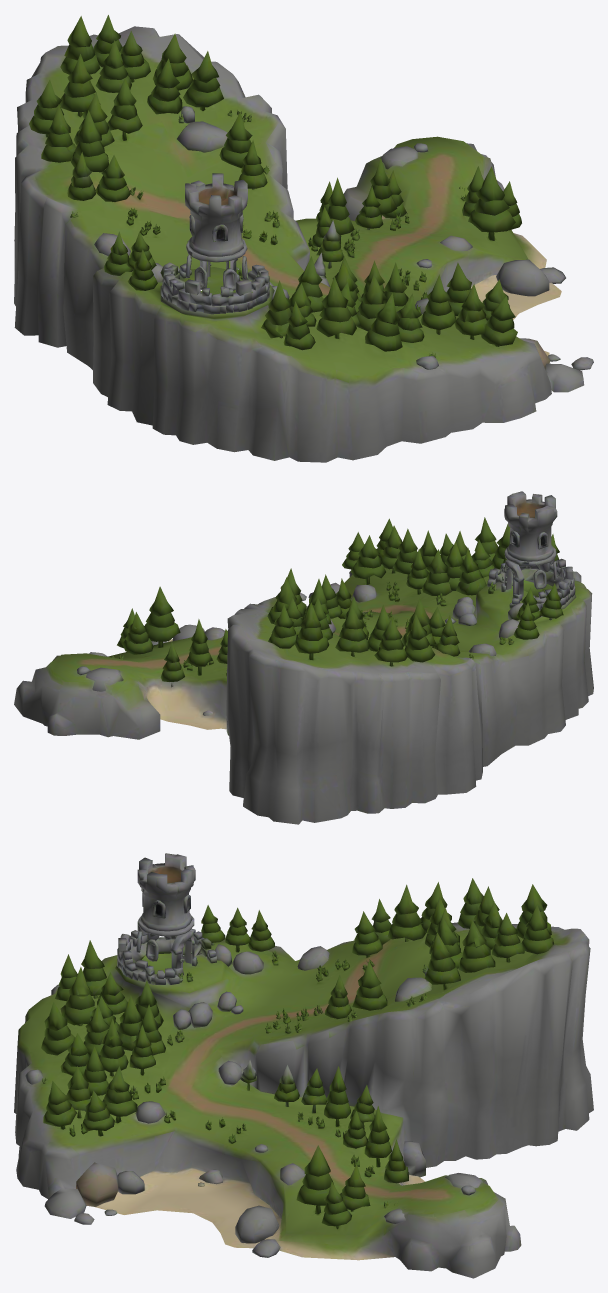
File: isle_03.glb
The picture shows the model from 3 angles, top to bottom: view 1: azimuth 30°, elevation 25°; view 2: azimuth 150°, elevation 25°; view 3: azimuth 270°, elevation 25°; orthographic projection. The views are drawn at different scales.
Visible parts, largest first — view 1: tripo_node_373267f8-8c23-47b7-8f52-7584ca436147; view 2: tripo_node_373267f8-8c23-47b7-8f52-7584ca436147; view 3: tripo_node_373267f8-8c23-47b7-8f52-7584ca436147.
Boxes of the visible parts, box(x1,y1,x2,y2) form: tripo_node_373267f8-8c23-47b7-8f52-7584ca436147: box(14, 15, 593, 462); tripo_node_373267f8-8c23-47b7-8f52-7584ca436147: box(14, 491, 593, 824); tripo_node_373267f8-8c23-47b7-8f52-7584ca436147: box(14, 853, 593, 1278).
Size of the model in its own units: 107 by 47.03 by 112.
1 material, 1 textured.
